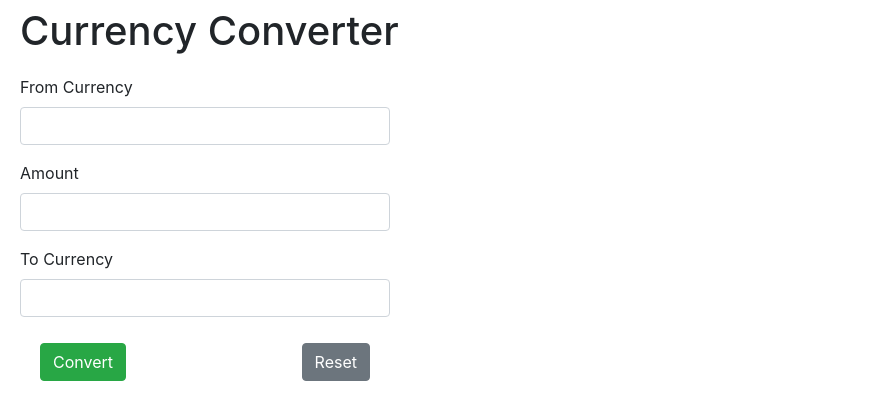
it: CurrencyCalculator component › fill the form, submit button is clicked for successful conversion
In the field with test id "fromCurr": (205, 126) [20,107,390,145], type "aud"
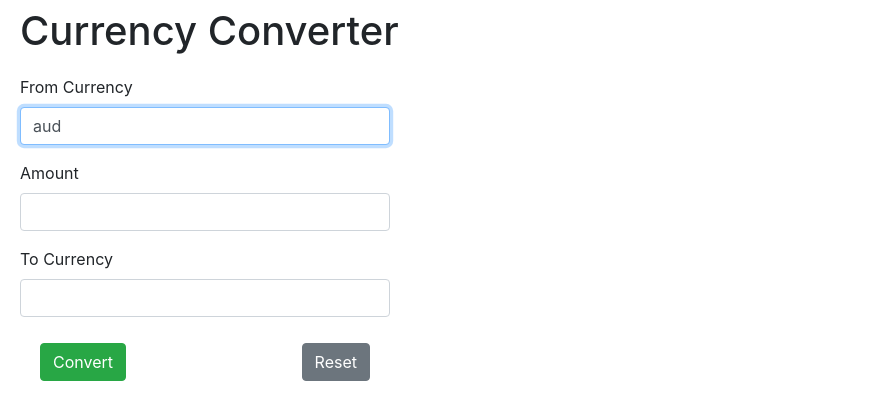
In the number field with test id "amount": (205, 212) [20,193,390,231], type "10"
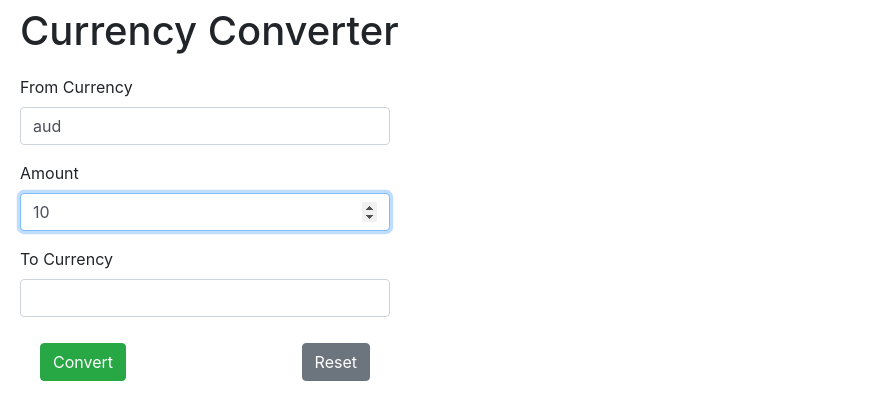
In the field with test id "toCurr": (205, 298) [20,279,390,317], type "aud"
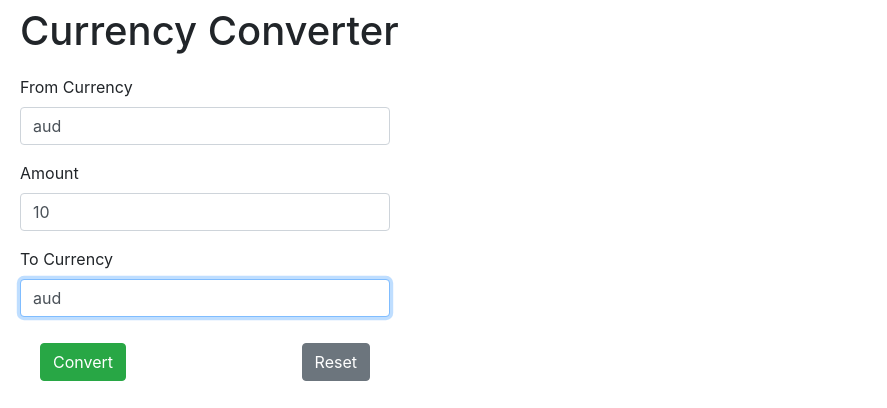
Click the button "Convert": (83, 362) [40,343,126,381]
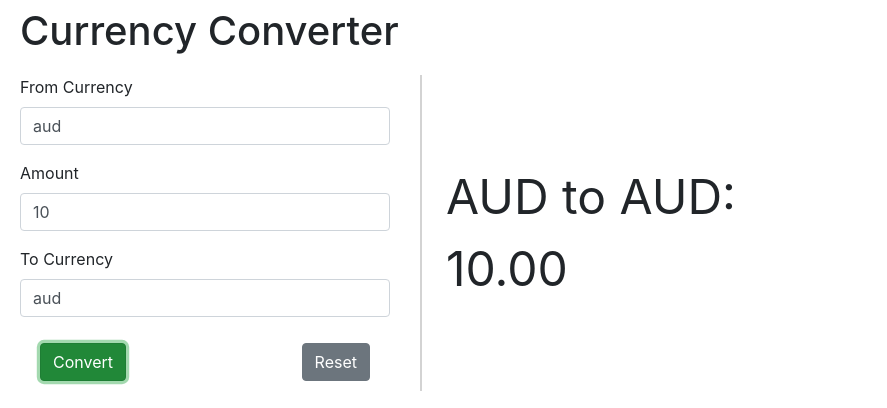
Expected: the text with test id "result" reads "AUD to AUD: 10.00", [420,75,870,391]
